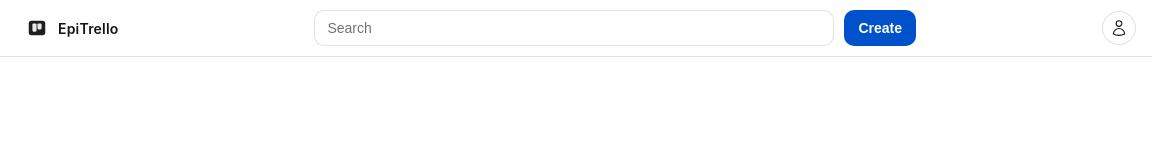
Scenario: components/TopBar › toggles profile menu when clicking Profile
This screenshot has width=1152, height=162.
Expected: the button "theme" is not shown
Click the button named "profile" at {"x": 1119, "y": 28}, box [1102, 11, 1136, 45]
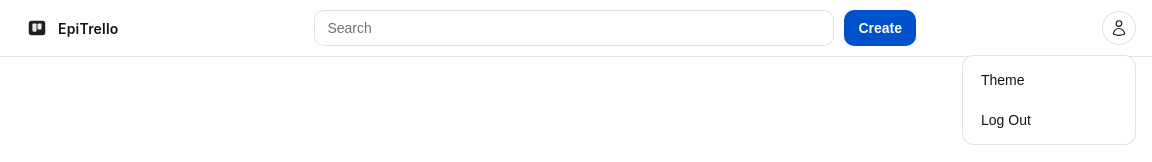
Expected: the button "Theme" is shown, [969, 62, 1129, 98]
Expected: the button "Log Out" is shown, [969, 102, 1129, 138]
Click the button named "profile" at {"x": 1119, "y": 28}, box [1102, 11, 1136, 45]
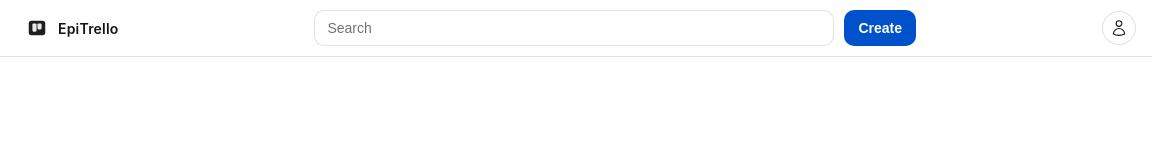
Expected: the button "Theme" is gone
